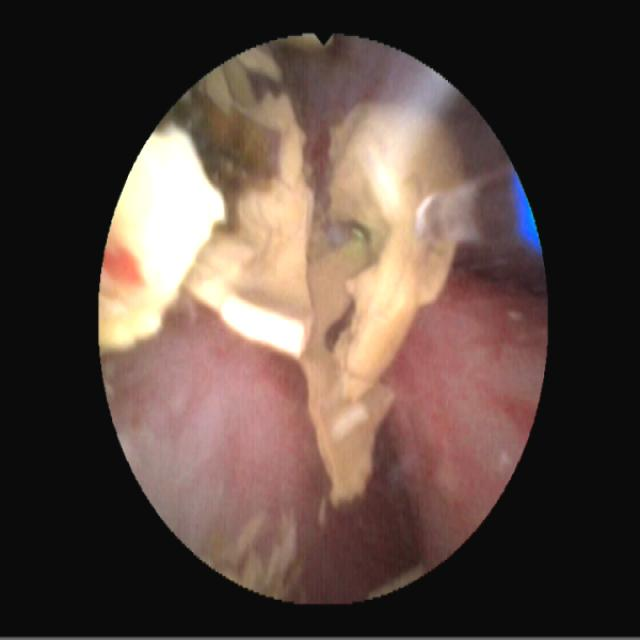fiber: (514, 174, 538, 249)
stone: (107, 52, 460, 502), (210, 510, 303, 596)
tissue: (114, 59, 542, 589)
